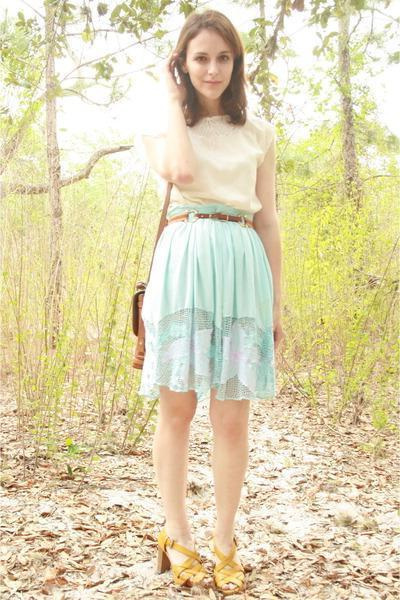short sleeve shirt: (143, 104, 281, 212)
skirt: (137, 204, 279, 405)
